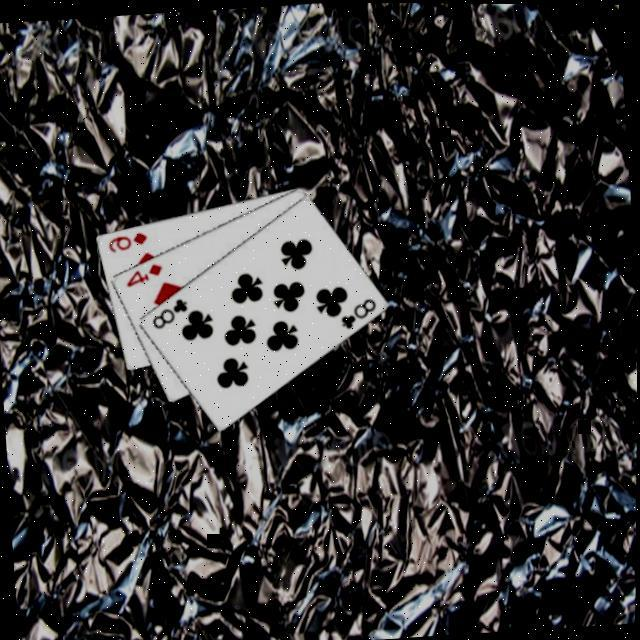4D: (120, 260, 164, 290)
6D: (102, 228, 148, 256)
8C: (334, 294, 378, 334), (146, 294, 190, 333)
